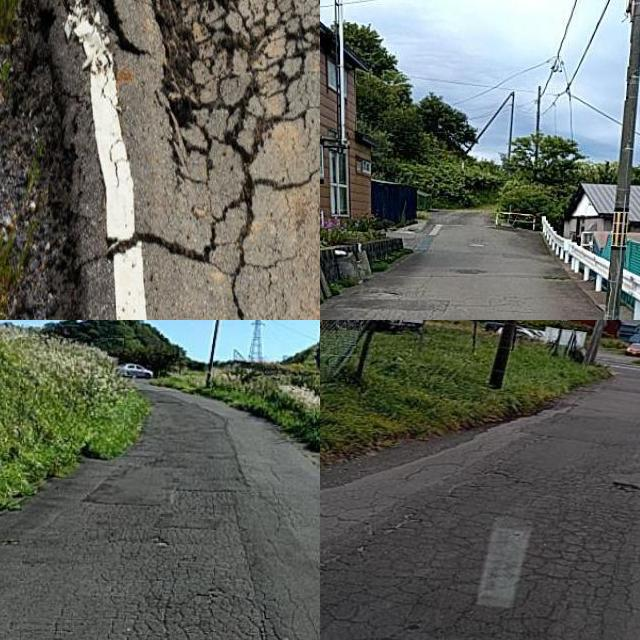Pinggir: (8, 0, 320, 317)
Retak Buaya: (320, 476, 640, 640), (44, 536, 274, 640)
